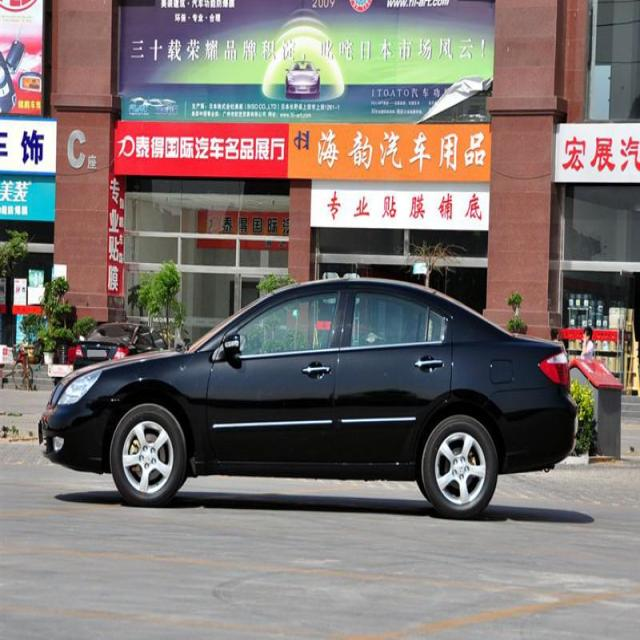back_left_side_light: (537, 350, 570, 387)
door: (343, 285, 462, 461)
front_bumper: (42, 398, 107, 476)
front_left_side_door: (206, 279, 351, 465)
front_left_side_light: (57, 366, 104, 408)
front_left_side_mirror: (222, 332, 242, 357)
rear_bumper: (490, 385, 580, 474)
wheel: (422, 413, 498, 518), (110, 403, 186, 503)
